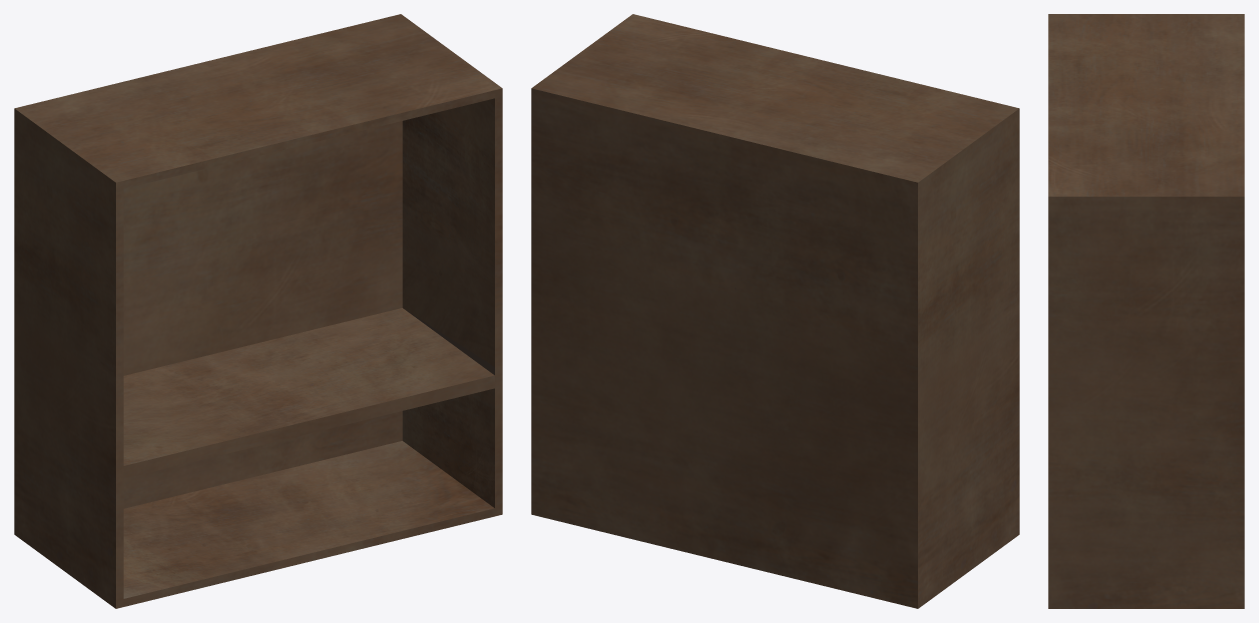
The model's file is fusumaInside.gltf.
The picture shows the model from 3 angles, left to right: view 1: azimuth 30°, elevation 25°; view 2: azimuth 150°, elevation 25°; view 3: azimuth 270°, elevation 25°; orthographic projection. The views are drawn at different scales.
Parts seen in each view (by area): view 1: Cube; view 2: Cube; view 3: Cube.
Boxes of the visible parts, bbox=[...] form: Cube: bbox=[14, 14, 502, 608]; Cube: bbox=[531, 14, 1019, 608]; Cube: bbox=[1048, 14, 1244, 608].
Size of the model in its own units: 1.69 by 1.78 by 0.7688.
Materials: 1 (1 with a texture image).
